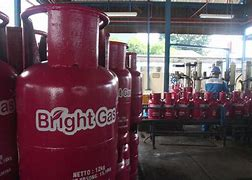bright_gas: (19, 5, 117, 180), (1, 12, 21, 180), (99, 39, 129, 137), (124, 51, 143, 125), (119, 129, 138, 180), (234, 92, 250, 119), (147, 92, 162, 119), (162, 92, 177, 119), (220, 93, 233, 122), (178, 92, 191, 119), (192, 94, 206, 119), (207, 95, 220, 121)
